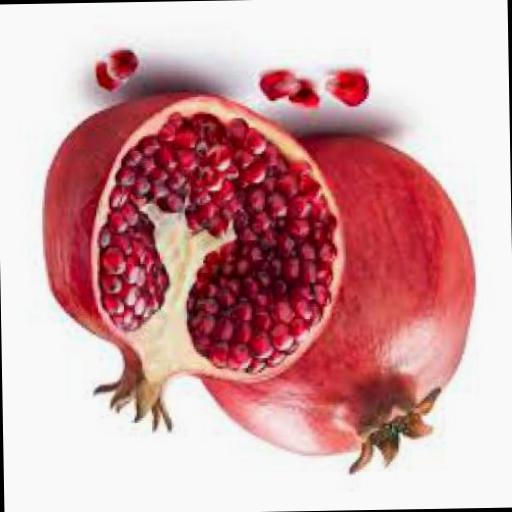biodegradable: (42, 92, 351, 434), (186, 135, 482, 470), (327, 70, 371, 109), (260, 72, 303, 102), (109, 52, 144, 84), (96, 62, 126, 92), (290, 88, 320, 110)
